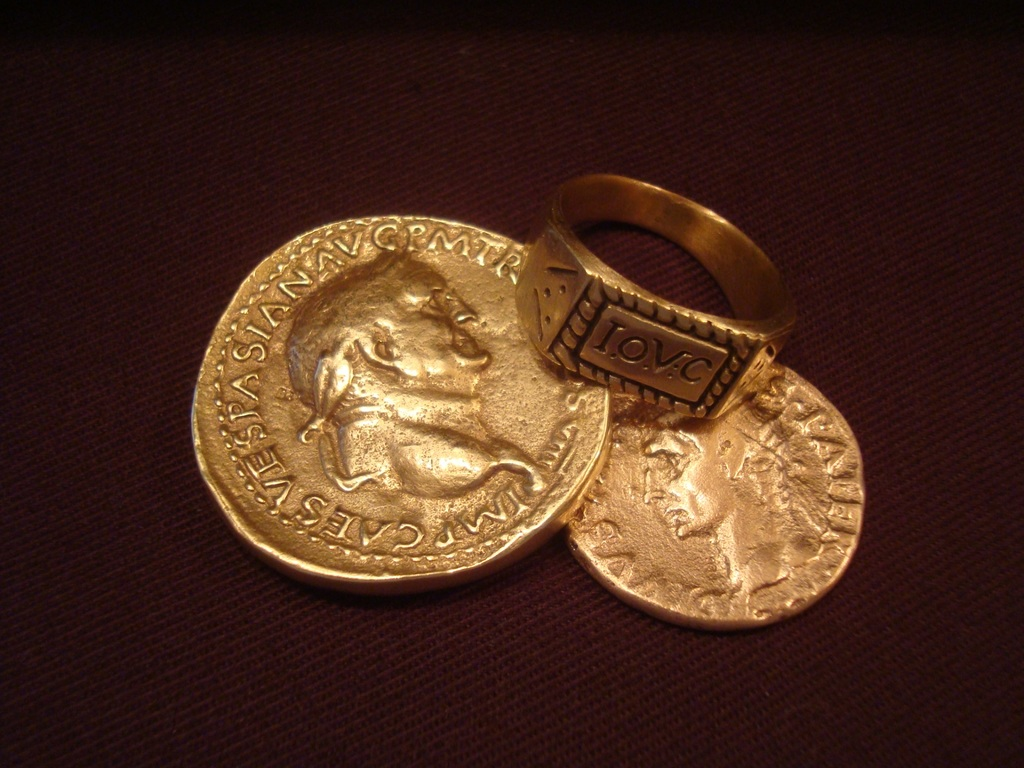Coin: (190, 213, 610, 599), (562, 359, 867, 633)
